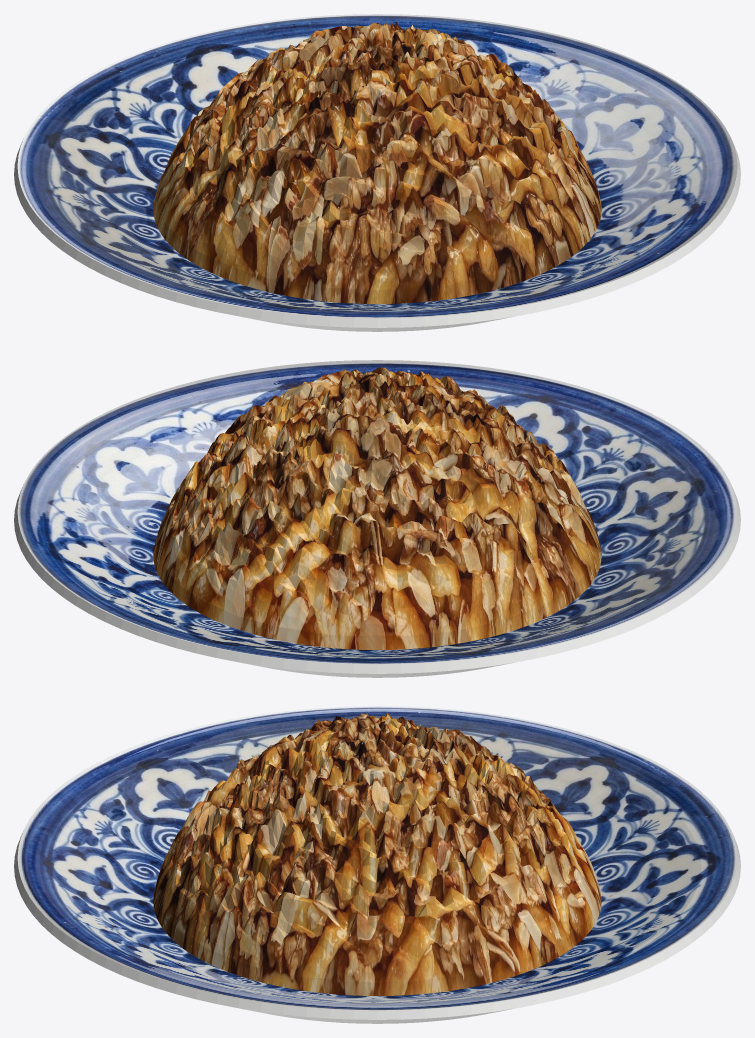
File: chakchak.glb
3 views of the same model, one above another, from view 1: azimuth 30°, elevation 25°; view 2: azimuth 150°, elevation 25°; view 3: azimuth 270°, elevation 25° (orthographic).
Visible parts, largest first — view 1: chakchak_2, chakchak_0, chakchak_1; view 2: chakchak_2, chakchak_0, chakchak_1; view 3: chakchak_2, chakchak_0, chakchak_1.
Part boxes in pixels (x1,y1,x2,y2): chakchak_2: (153,22,601,303); chakchak_0: (17,14,737,318); chakchak_1: (14,138,740,331); chakchak_2: (153,367,601,649); chakchak_0: (17,360,737,664); chakchak_1: (14,484,740,677); chakchak_2: (153,712,601,995); chakchak_0: (17,706,737,1010); chakchak_1: (14,830,740,1023).
Bounding box in the file's own units: 0.2424 × 0.0679 × 0.2424.
Materials: 3 (2 with a texture image).
